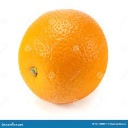orange: (17, 8, 111, 108)
